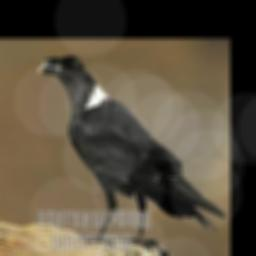Crow: (36, 55, 226, 253)
